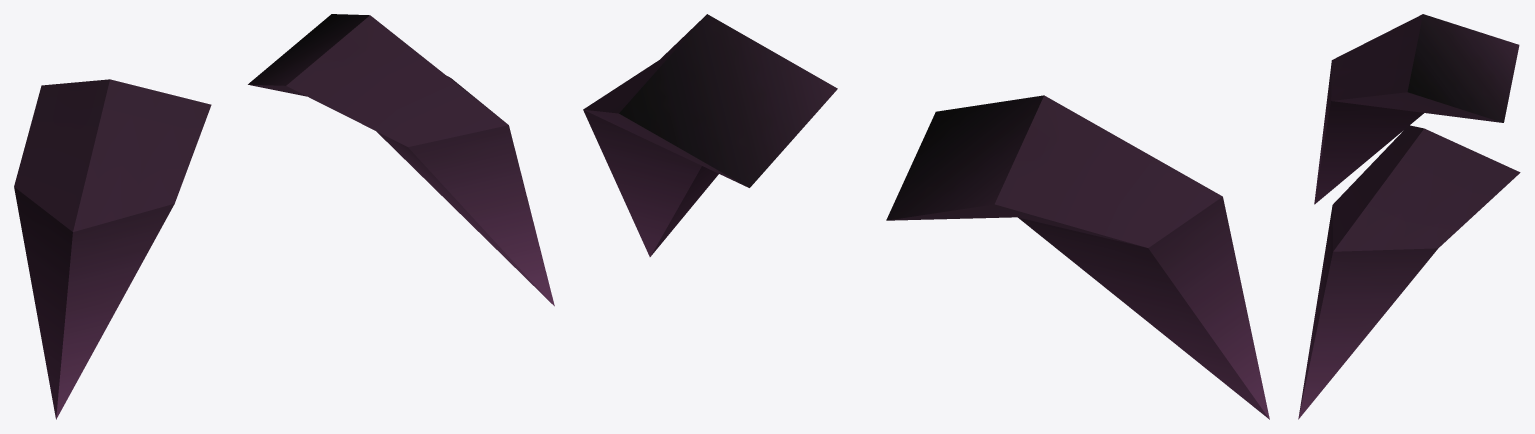
The model's file is SpewtumLegs.fbx.
3 views of the same model, side by side, from view 1: azimuth 30°, elevation 25°; view 2: azimuth 150°, elevation 25°; view 3: azimuth 270°, elevation 25° (orthographic). The views are drawn at different scales.
Visible parts, largest first — view 1: polySurface13; view 2: polySurface13; view 3: polySurface13.
Boxes of the visible parts, left/top/right/bottom form: polySurface13: left=14, top=14, right=554, bottom=419; polySurface13: left=583, top=14, right=1269, bottom=419; polySurface13: left=1298, top=14, right=1520, bottom=419.
Size of the model in its own units: 1.38 by 0.7232 by 0.6044.
Materials: 1 (1 with a texture image).
